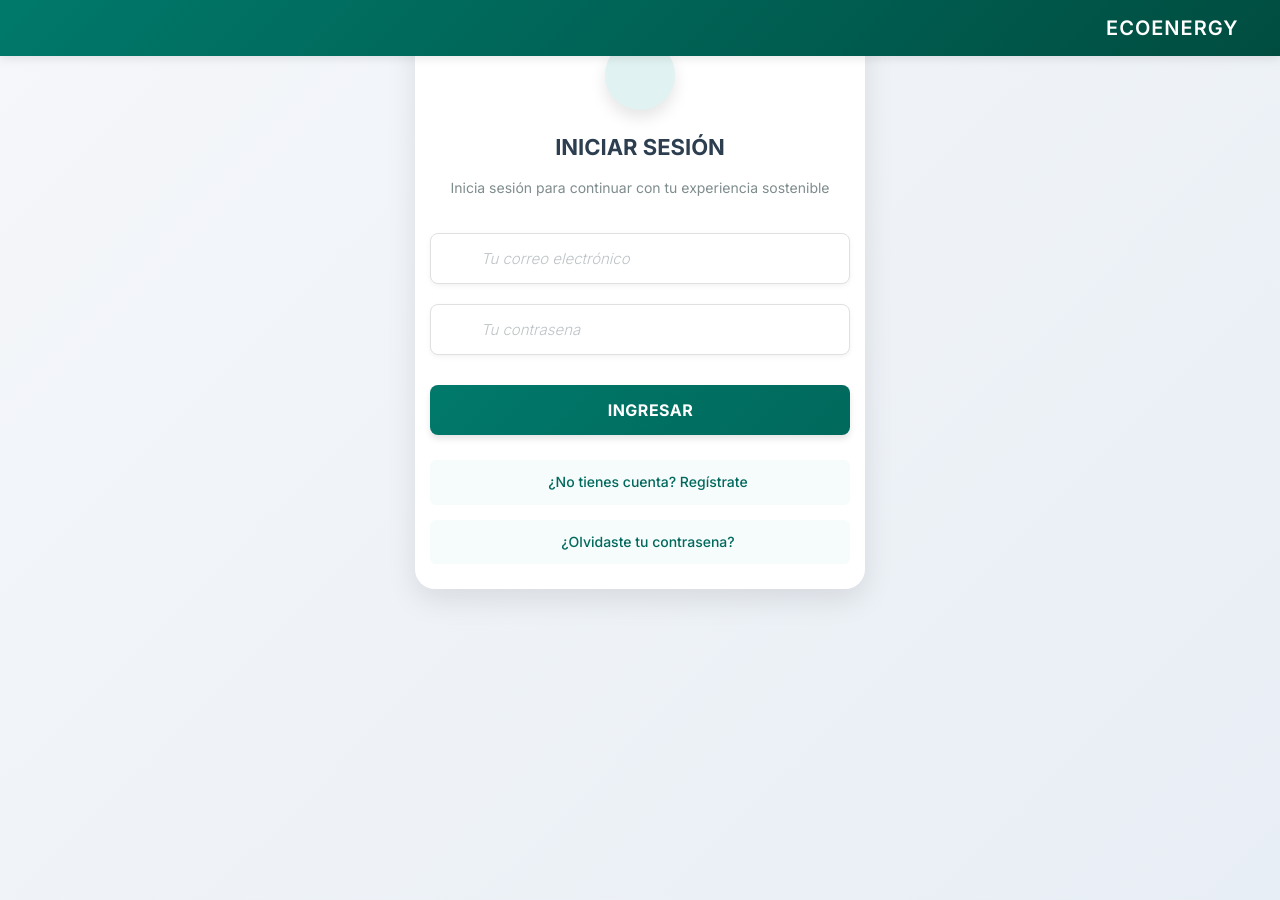
it: Login | casos de formulario › Email correcto y contrasena incorrecta
The width and height of the screenshot is (1280, 900).
Type "admin@gmail.com" into the field with placeholder "Tu correo electrónico" at (640, 259), box [430,233,850,284]
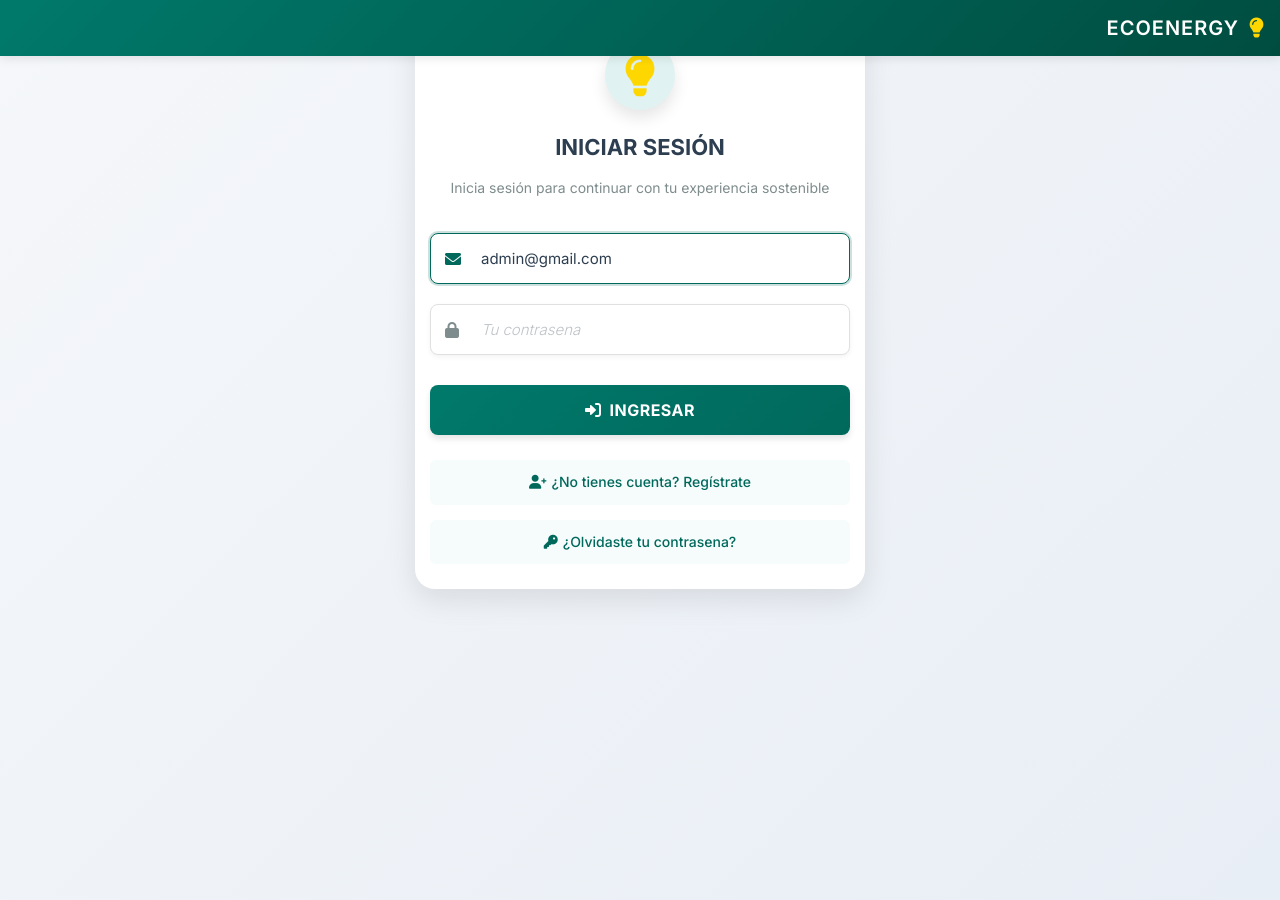
Type "ayayai" into the password field with placeholder "Tu contrasena" at (640, 330), box [430,304,850,355]
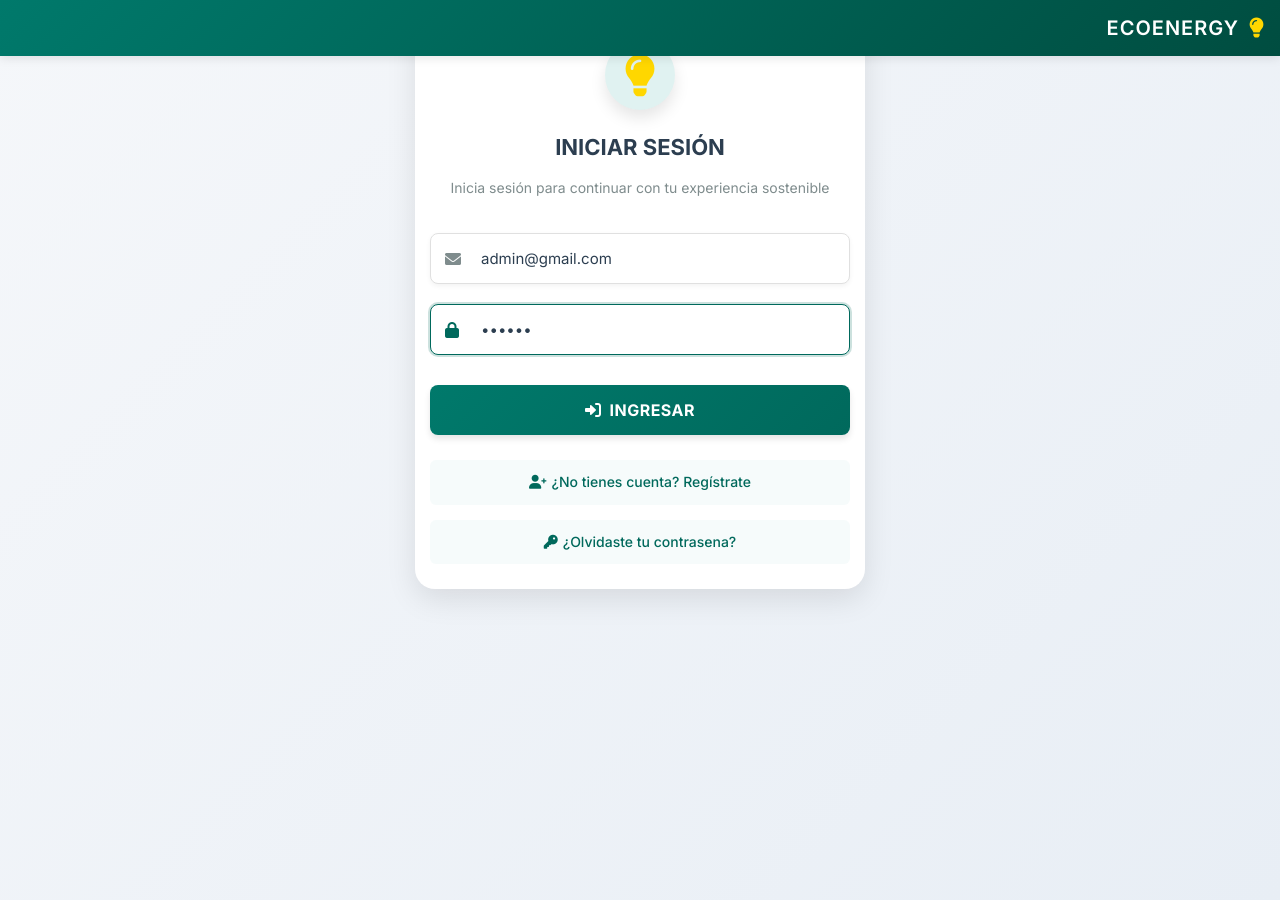
Click the button "INGRESAR" at (640, 410), box [430,385,850,435]
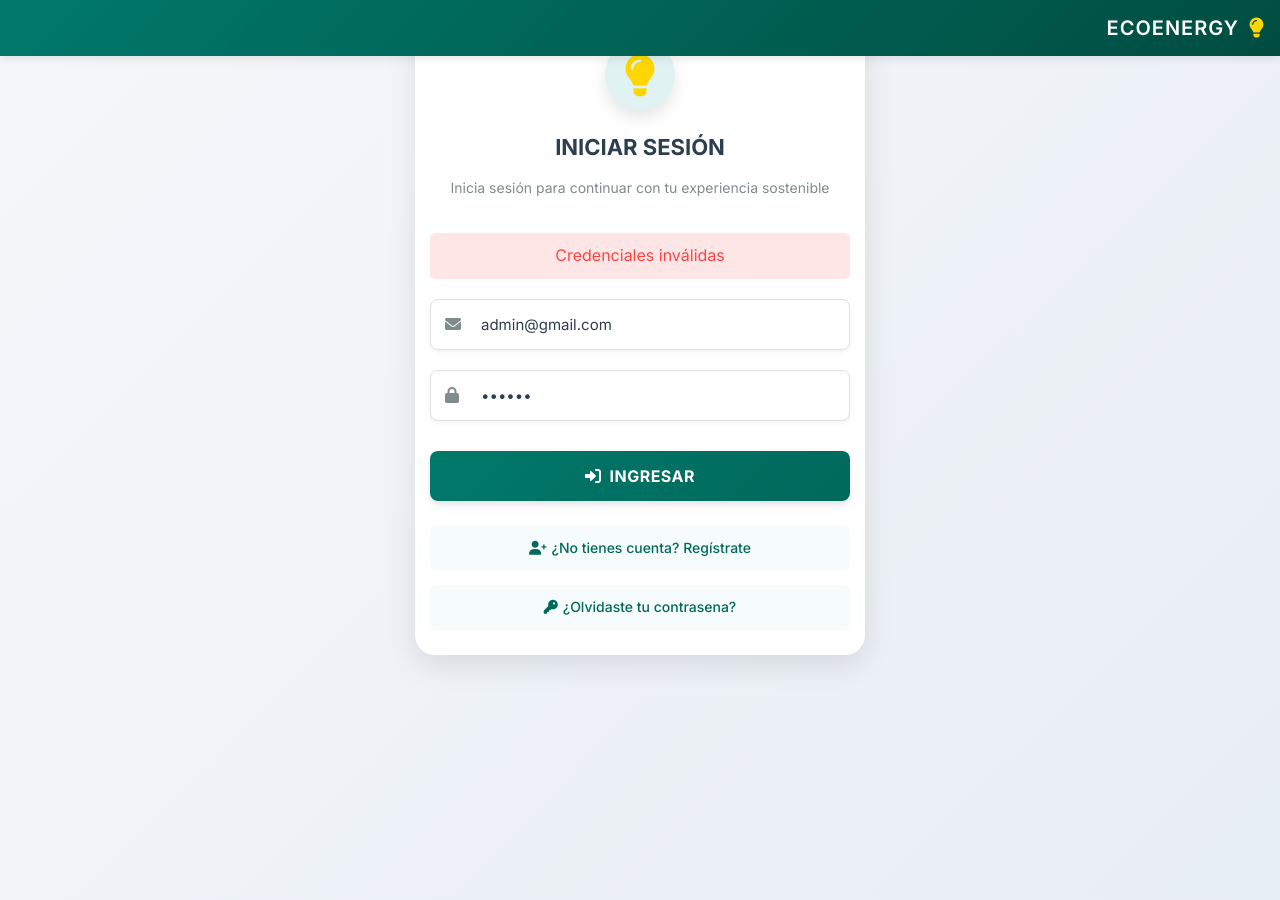
Expected: the text "Credenciales inválidas" is shown, [430,233,850,279]
